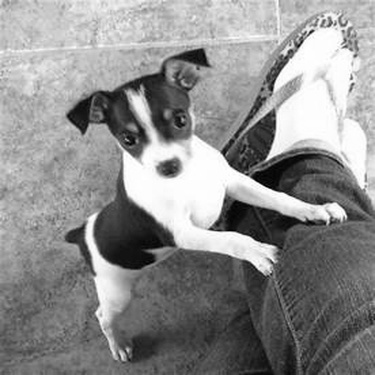dog: (31, 36, 358, 367)
